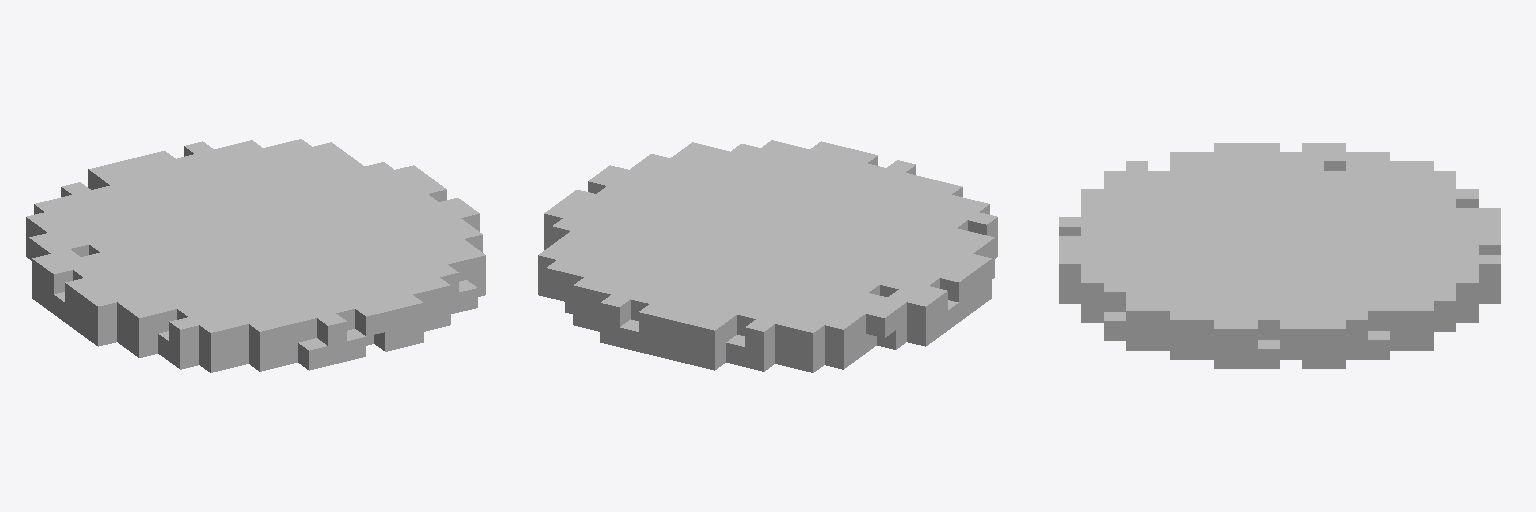
The model's file is trou de terre.obj.
The picture shows the model from 3 angles: view 1: azimuth 30°, elevation 25°; view 2: azimuth 150°, elevation 25°; view 3: azimuth 270°, elevation 25°; orthographic projection.
Parts seen in each view (by area): view 1: object 1; view 2: object 1; view 3: object 1.
Part boxes in pixels (x1,y1,x2,y2): object 1: (26,139,485,372); object 1: (538,140,997,372); object 1: (1059,143,1500,368).
Size of the model in its own units: 2 by 0.2 by 2.